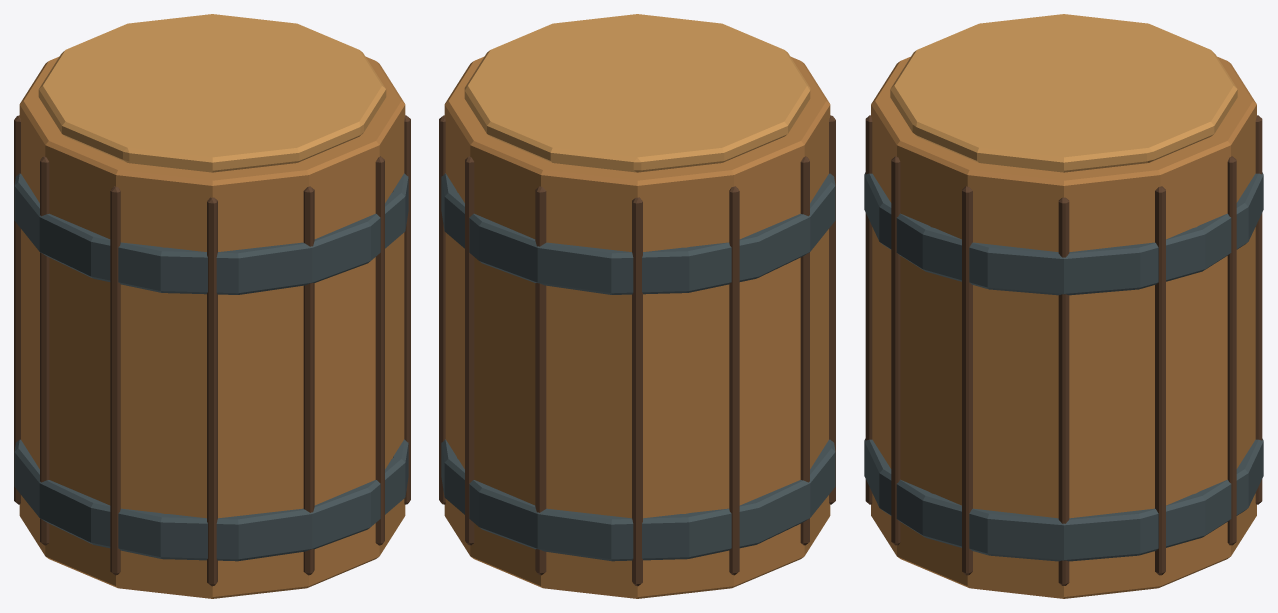
Rendered from wooden_barrel.glb.
3 renders of one model, left to right at view 1: azimuth 30°, elevation 25°; view 2: azimuth 150°, elevation 25°; view 3: azimuth 270°, elevation 25°, orthographic.
Visible parts, largest first — view 1: wooden_barrel__body__wood2, wooden_barrel__body__wood3, wooden_barrel__body__metal, wooden_barrel__body__wood_dark; view 2: wooden_barrel__body__wood2, wooden_barrel__body__wood3, wooden_barrel__body__metal, wooden_barrel__body__wood_dark; view 3: wooden_barrel__body__wood2, wooden_barrel__body__wood3, wooden_barrel__body__metal, wooden_barrel__body__wood_dark.
Part boxes in pixels (x1,y1,x2,y2): wooden_barrel__body__wood2: (19, 56, 405, 598); wooden_barrel__body__wood3: (38, 14, 386, 172); wooden_barrel__body__metal: (14, 173, 408, 561); wooden_barrel__body__wood_dark: (14, 115, 410, 586); wooden_barrel__body__wood2: (444, 56, 830, 598); wooden_barrel__body__wood3: (464, 14, 810, 172); wooden_barrel__body__metal: (441, 173, 835, 561); wooden_barrel__body__wood_dark: (439, 115, 835, 586); wooden_barrel__body__wood2: (871, 56, 1256, 598); wooden_barrel__body__wood3: (890, 14, 1237, 172); wooden_barrel__body__metal: (864, 172, 1263, 561); wooden_barrel__body__wood_dark: (865, 115, 1262, 585).
Size of the model in its own units: 0.6189 by 0.741 by 0.6189.
